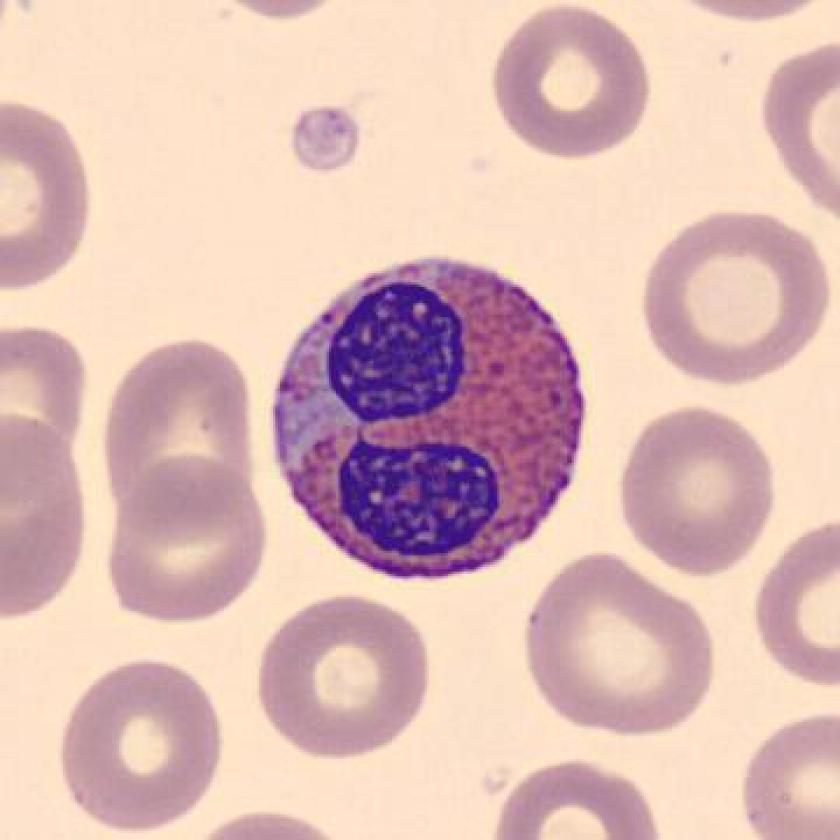eosinophil: (260, 251, 601, 593)
